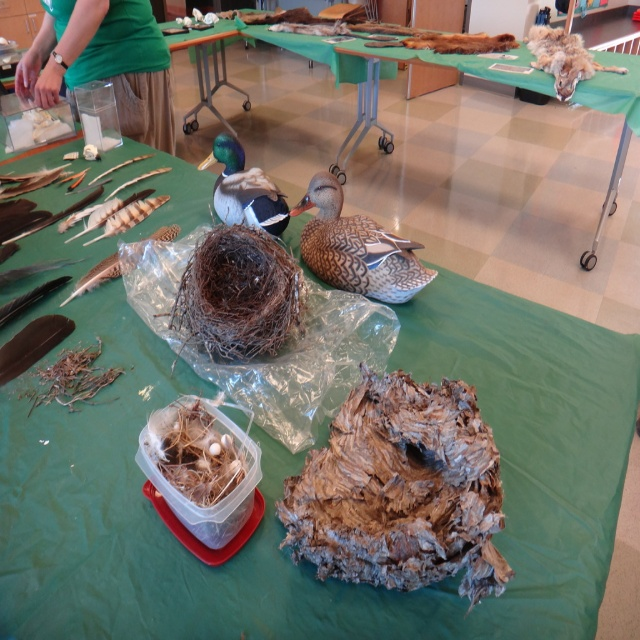Duck: (292, 178, 442, 306), (192, 133, 305, 234)
